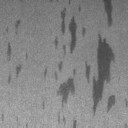red iron: (44, 34, 128, 117), (54, 0, 85, 56), (102, 0, 114, 27), (8, 64, 22, 84), (4, 18, 22, 32), (6, 42, 12, 56), (73, 120, 78, 128)
